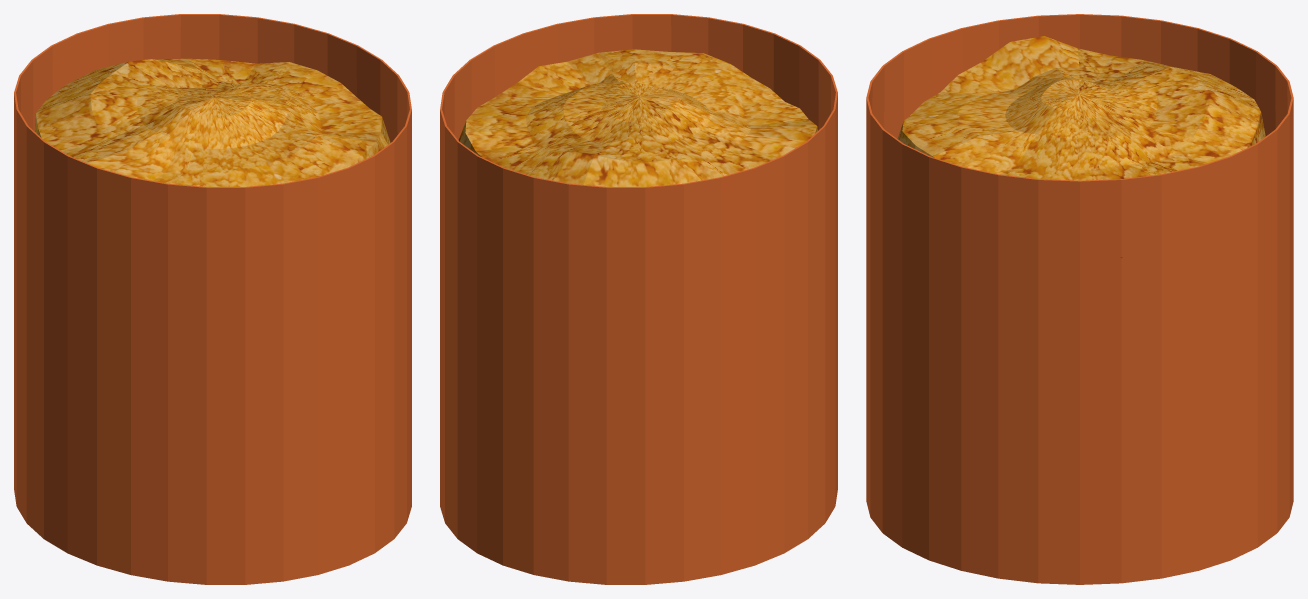
Rendered from Tepung Roti.fbx.
3 views of the same model, side by side, from view 1: azimuth 30°, elevation 25°; view 2: azimuth 150°, elevation 25°; view 3: azimuth 270°, elevation 25° (orthographic).
Parts seen in each view (by area): view 1: Cylinder, Sphere; view 2: Cylinder, Sphere; view 3: Cylinder, Sphere.
Boxes of the visible parts, left/top/right/bottom form: Cylinder: left=14, top=14, right=411, bottom=584; Sphere: left=34, top=58, right=390, bottom=186; Cylinder: left=440, top=14, right=837, bottom=584; Sphere: left=458, top=49, right=817, bottom=186; Cylinder: left=866, top=14, right=1293, bottom=584; Sphere: left=897, top=36, right=1265, bottom=257.
Size of the model in its own units: 114 by 129 by 123.
2 materials, 1 textured.
